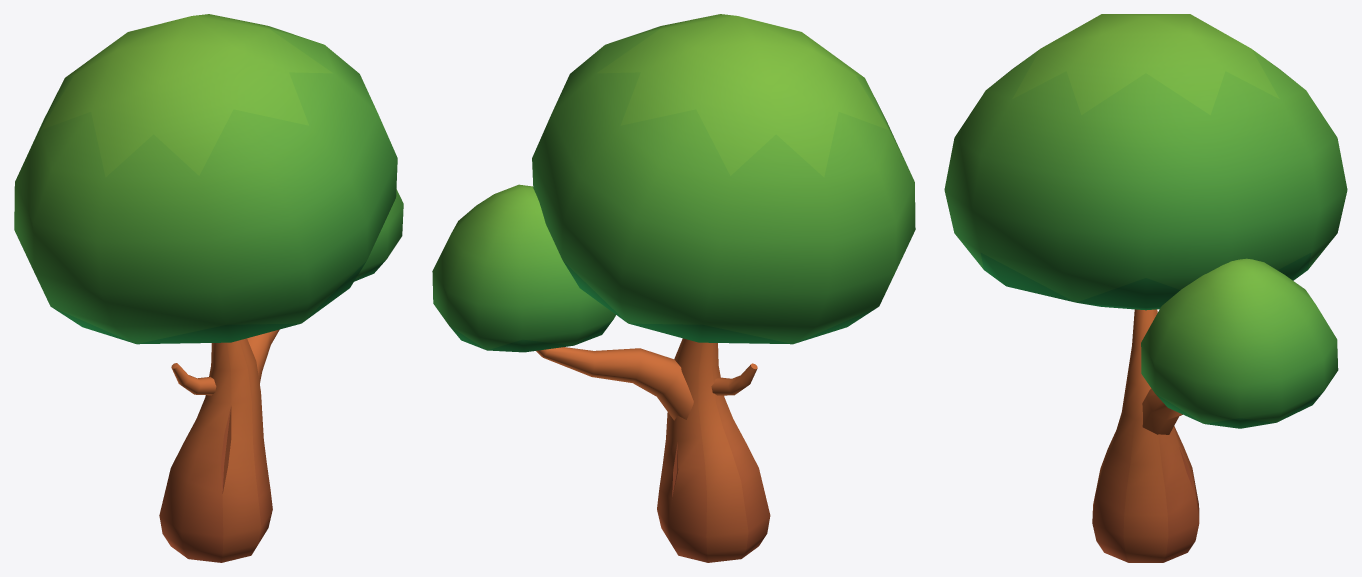
The model's file is Tree_1_B_Color1.fbx.
3 views of the same model, side by side, from view 1: azimuth 30°, elevation 25°; view 2: azimuth 150°, elevation 25°; view 3: azimuth 270°, elevation 25° (orthographic).
Visible parts, largest first — view 1: Tree_1_B_Color1; view 2: Tree_1_B_Color1; view 3: Tree_1_B_Color1.
Boxes of the visible parts, box(x1,y1,x2,y2) form: Tree_1_B_Color1: box(14, 14, 403, 562); Tree_1_B_Color1: box(432, 14, 915, 562); Tree_1_B_Color1: box(944, 14, 1347, 562).
Size of the model in its own units: 4.01 by 4.93 by 3.45.
